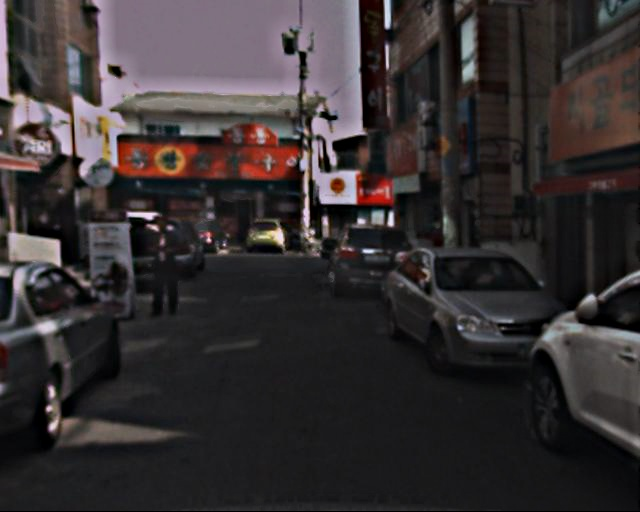person: (143, 216, 189, 319)
